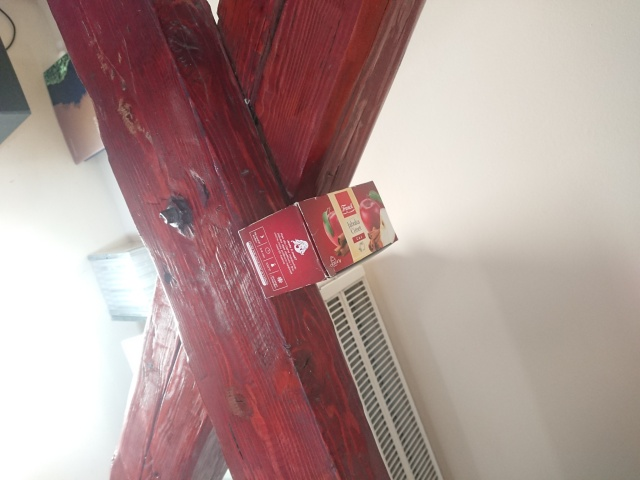Franck Apple Cinnamon Tea 60g: (236, 178, 400, 300)
